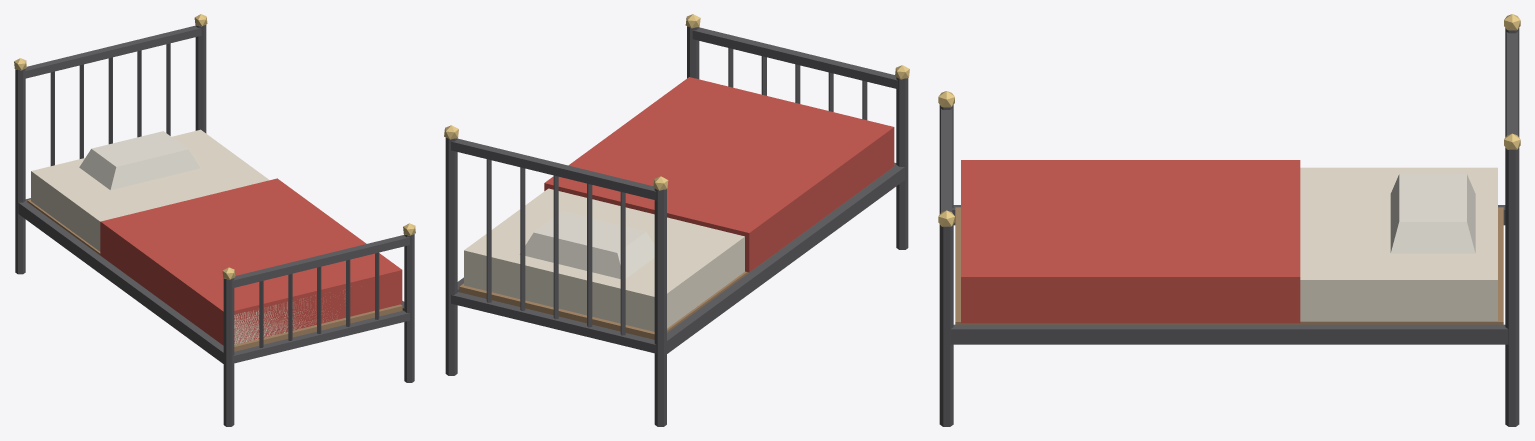
Rendered from SM_Bed_Iron.glb.
3 views of the same model, side by side, from view 1: azimuth 30°, elevation 25°; view 2: azimuth 150°, elevation 25°; view 3: azimuth 270°, elevation 25° (orthographic). The views are drawn at different scales.
Visible parts, largest first — view 1: SM_Bed_Iron; view 2: SM_Bed_Iron; view 3: SM_Bed_Iron.
Part boxes in pixels (<box>): SM_Bed_Iron: <box>14,14,415,426</box>; SM_Bed_Iron: <box>444,14,909,426</box>; SM_Bed_Iron: <box>938,14,1520,426</box>.
Bounding box in the file's own units: 1.06 × 1.13 × 2.06.
